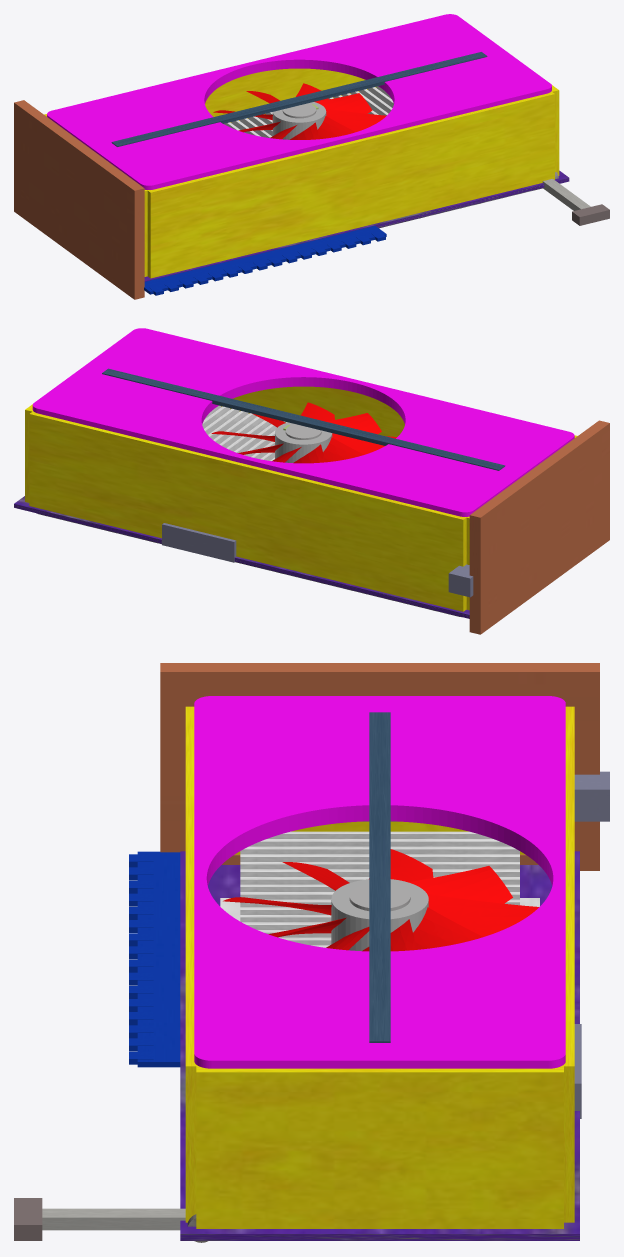
File: Technology_Graphics_Card__0242.glb
3 renders of one model, top to bottom at view 1: azimuth 30°, elevation 25°; view 2: azimuth 150°, elevation 25°; view 3: azimuth 270°, elevation 25°, orthographic. The views are drawn at different scales.
Parts seen in each view (by area): view 1: card_body::skirt_wall_bottom, card_body::shroud_faceplate, card_body::io_bracket_plate, card_body::skirt_wall_top, card_body::vapor_seam, fan_0::rotor_blades, card_body::pcie_contact_bar, card_body::pcb, fan_0::hub_ring, support_foot::foot_strut, support_foot::foot_pad, card_body::skirt_wall_tail; view 2: card_body::skirt_wall_top, card_body::shroud_faceplate, card_body::io_bracket_plate, card_body::skirt_wall_bottom, card_body::vapor_seam, fan_0::rotor_blades, card_body::pcb, card_body::power_connector_8pin_0, fan_0::hub_ring, card_body::hdmi_port, card_body::skirt_wall_tail, fan_0::hub_cap; view 3: card_body::shroud_faceplate, card_body::skirt_wall_tail, card_body::io_bracket_plate, card_body::pcb, fan_0::rotor_blades, card_body::pcie_contact_bar, card_body::vapor_seam, card_body::skirt_wall_bottom, card_body::skirt_wall_top, support_foot::foot_strut, fan_0::hub_ring, card_body::cooling_fin_2 (+12 smaller).
Boxes of the visible parts, left/top/right/bottom form: card_body::skirt_wall_bottom: left=147, top=91, right=554, bottom=278; card_body::shroud_faceplate: left=47, top=14, right=551, bottom=189; card_body::io_bracket_plate: left=14, top=100, right=144, bottom=299; card_body::skirt_wall_top: left=44, top=68, right=376, bottom=122; card_body::vapor_seam: left=111, top=52, right=487, bottom=146; fan_0::rotor_blades: left=213, top=83, right=386, bottom=139; card_body::pcie_contact_bar: left=144, top=225, right=386, bottom=294; card_body::pcb: left=144, top=170, right=569, bottom=281; fan_0::hub_ring: left=272, top=102, right=326, bottom=139; support_foot::foot_strut: left=542, top=179, right=590, bottom=210; support_foot::foot_pad: left=572, top=204, right=609, bottom=225; card_body::skirt_wall_tail: left=551, top=85, right=559, bottom=175; card_body::skirt_wall_top: left=29, top=411, right=466, bottom=611; card_body::shroud_faceplate: left=32, top=328, right=574, bottom=516; card_body::io_bracket_plate: left=469, top=420, right=609, bottom=634; card_body::skirt_wall_bottom: left=221, top=386, right=577, bottom=437; card_body::vapor_seam: left=102, top=368, right=505, bottom=470; fan_0::rotor_blades: left=211, top=402, right=396, bottom=463; card_body::pcb: left=14, top=496, right=469, bottom=618; card_body::power_connector_8pin_0: left=162, top=523, right=236, bottom=562; fan_0::hub_ring: left=275, top=422, right=332, bottom=462; card_body::hdmi_port: left=448, top=564, right=473, bottom=597; card_body::skirt_wall_tail: left=25, top=404, right=33, bottom=502; fan_0::hub_cap: left=285, top=424, right=321, bottom=439; card_body::shroud_faceplate: left=194, top=696, right=565, bottom=1068; card_body::skirt_wall_tail: left=196, top=1065, right=563, bottom=1228; card_body::io_bracket_plate: left=160, top=663, right=599, bottom=870; card_body::pcb: left=180, top=851, right=579, bottom=1240; fan_0::rotor_blades: left=223, top=849, right=538, bottom=951; card_body::pcie_contact_bar: left=137, top=851, right=180, bottom=1067; card_body::vapor_seam: left=369, top=712, right=390, bottom=1042; card_body::skirt_wall_bottom: left=185, top=706, right=197, bottom=1222; card_body::skirt_wall_top: left=564, top=706, right=574, bottom=1222; support_foot::foot_strut: left=42, top=1208, right=185, bottom=1230; fan_0::hub_ring: left=331, top=879, right=428, bottom=951; card_body::cooling_fin_2: left=240, top=846, right=519, bottom=854.
Bounding box in the file's own units: 0.262 × 0.0665 × 0.1685.
Materials: 18 (13 with a texture image).
